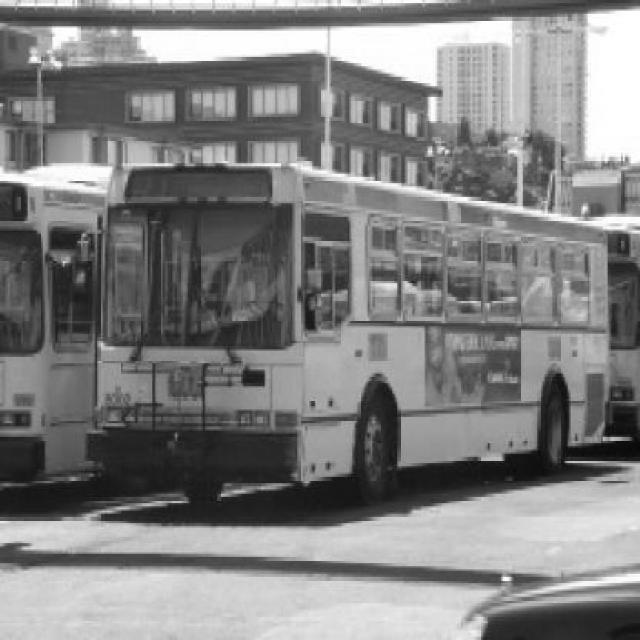Bus: (84, 162, 614, 510)
